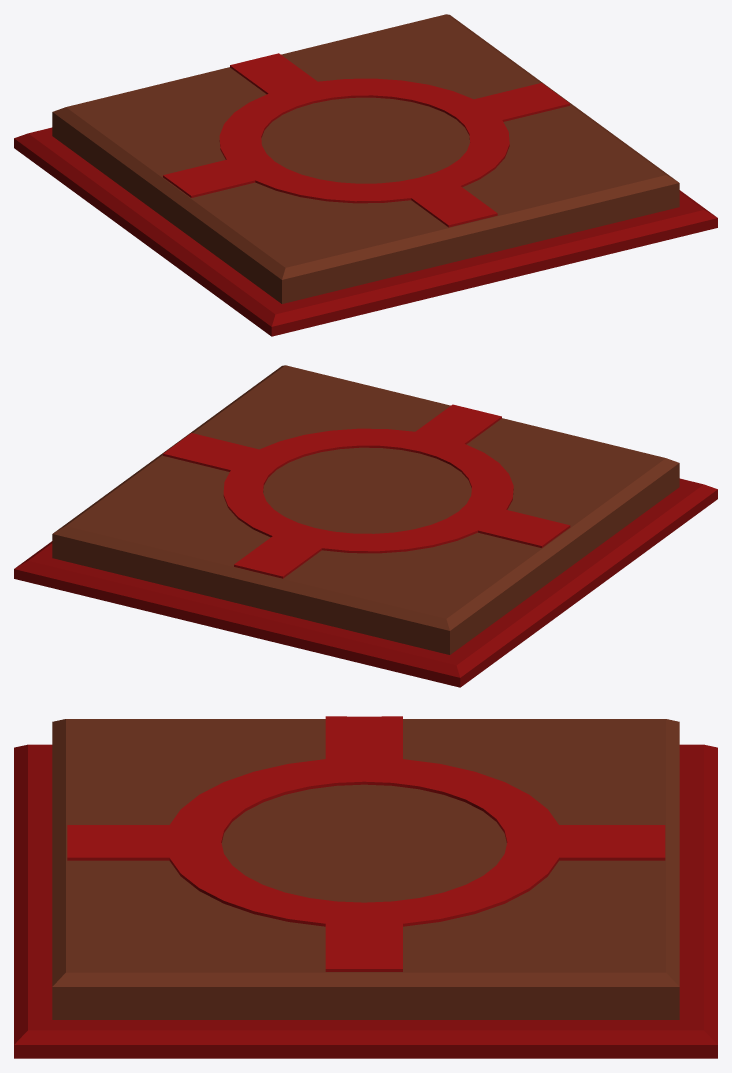
Rendered from pressureplate.FBX.
3 views of the same model, one above another, from view 1: azimuth 30°, elevation 25°; view 2: azimuth 150°, elevation 25°; view 3: azimuth 270°, elevation 25° (orthographic). The views are drawn at different scales.
Visible parts, largest first — view 1: plate, base, circle; view 2: plate, base, circle; view 3: plate, base, circle.
Boxes of the visible parts, left/top/right/bottom form: plate: left=52, top=14, right=679, bottom=303; base: left=14, top=127, right=717, bottom=336; circle: left=163, top=53, right=569, bottom=227; plate: left=52, top=365, right=679, bottom=654; base: left=14, top=478, right=717, bottom=687; circle: left=163, top=404, right=570, bottom=578; plate: left=52, top=719, right=679, bottom=1019; base: left=14, top=744, right=717, bottom=1058; circle: left=67, top=716, right=665, bottom=971.
Size of the model in its own units: 1 by 0.105 by 1.
